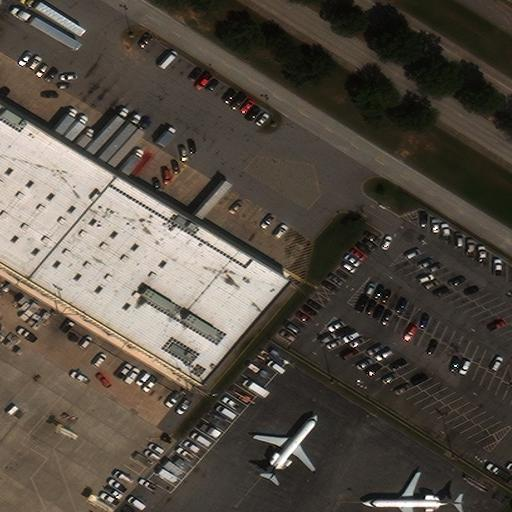Medium Civil Transport: (255, 414, 317, 480), (361, 472, 463, 512)
